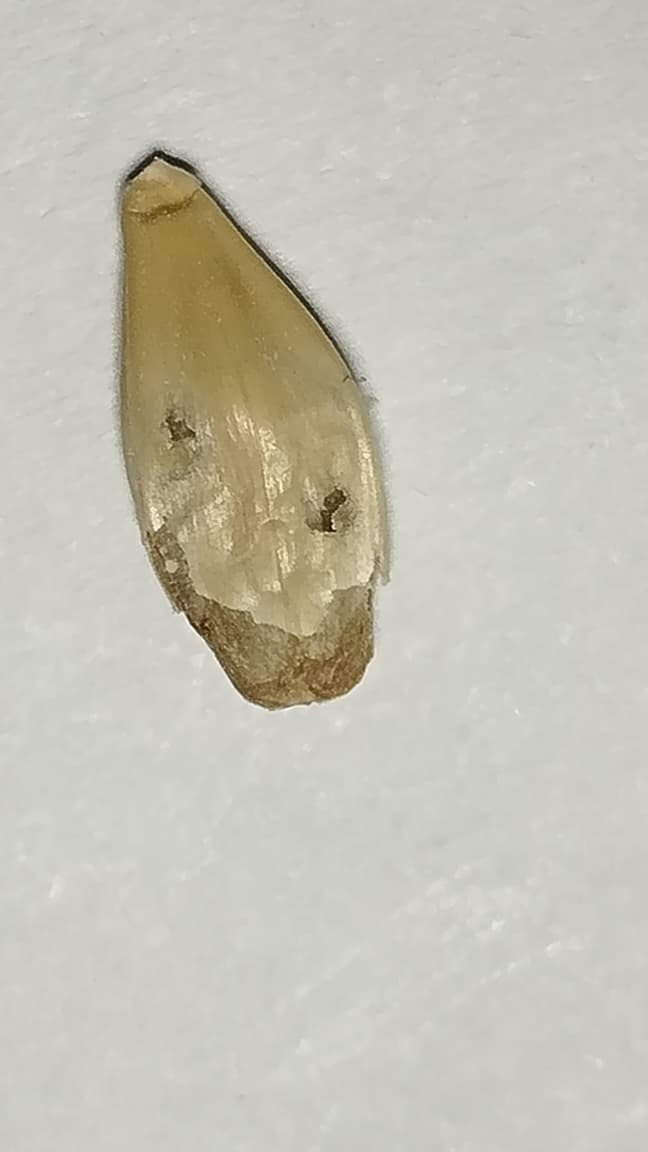damage: (121, 154, 381, 708)
insectdamage: (146, 374, 381, 569)
